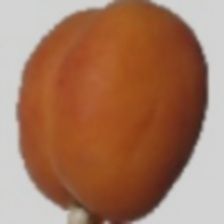apricot: (51, 38, 206, 196)
